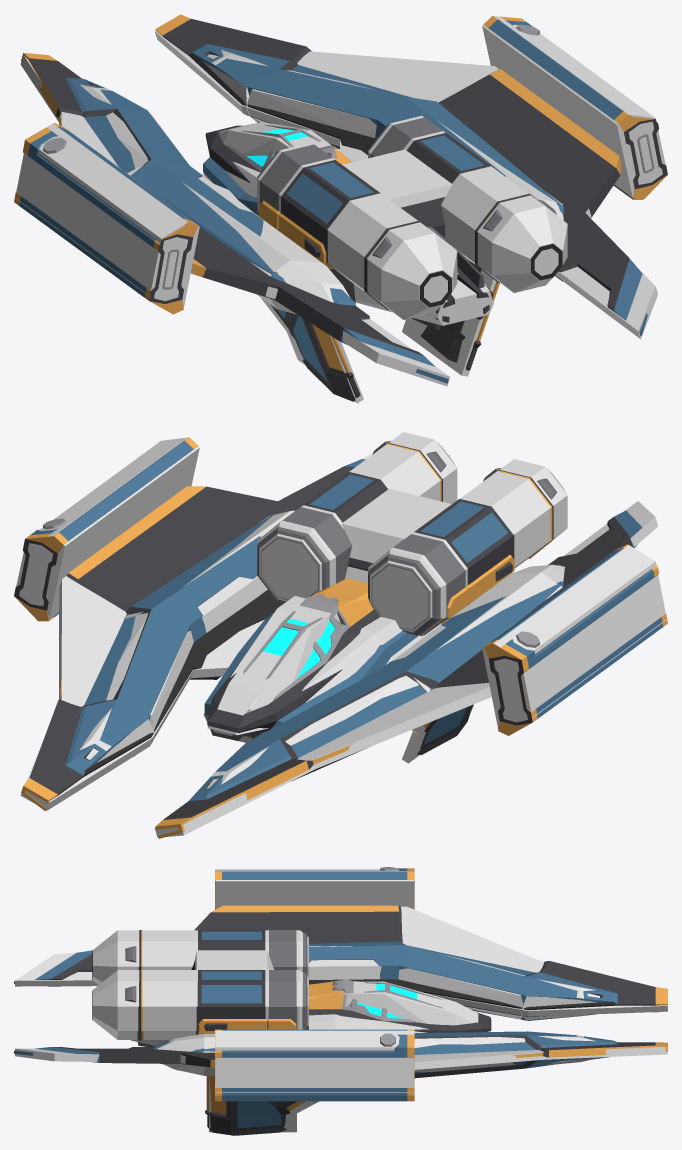
Rendered from SM_Ship_Stealth_02.fbx.
3 renders of one model, top to bottom at view 1: azimuth 30°, elevation 25°; view 2: azimuth 150°, elevation 25°; view 3: azimuth 270°, elevation 25°, orthographic. The views are drawn at different scales.
Visible parts, largest first — view 1: SM_Ship_Stealth_02_LOD0, SM_Ship_Stealth_02_ConvexHulls; view 2: SM_Ship_Stealth_02_LOD0, SM_Ship_Stealth_02_ConvexHulls; view 3: SM_Ship_Stealth_02_ConvexHulls, SM_Ship_Stealth_02_LOD0.
Boxes of the visible parts, x1,y1,x2,y2 form: SM_Ship_Stealth_02_LOD0: (14, 14, 667, 401); SM_Ship_Stealth_02_ConvexHulls: (15, 16, 665, 403); SM_Ship_Stealth_02_LOD0: (14, 437, 667, 838); SM_Ship_Stealth_02_ConvexHulls: (16, 432, 666, 837); SM_Ship_Stealth_02_ConvexHulls: (15, 869, 667, 1132); SM_Ship_Stealth_02_LOD0: (14, 867, 667, 1135).
Bounding box in the file's own units: 1803 × 1220 × 495.
Materials: 1 (1 with a texture image).
